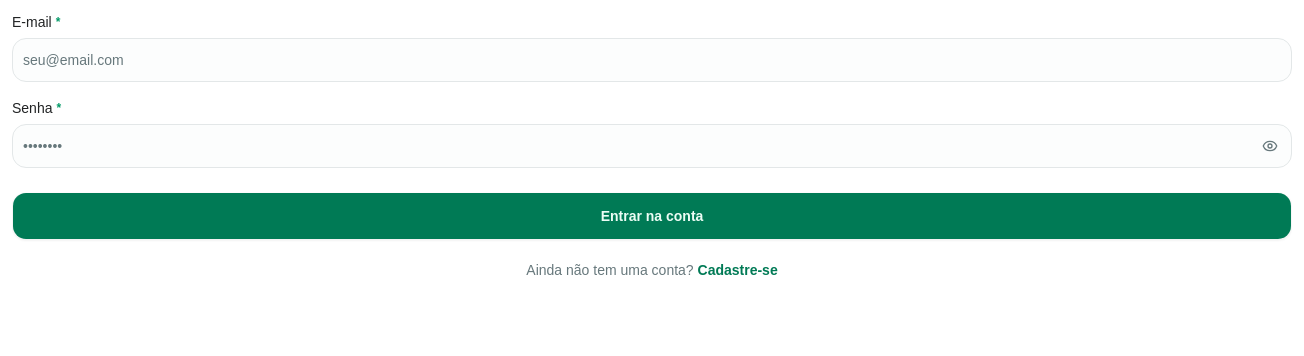
Test: LoginForm: envio › usa uma mensagem padrão quando a API não explica o erro
In the field labelled "E-mail *": (652, 60) [12,38,1292,82], type "maria@verdear.dev"
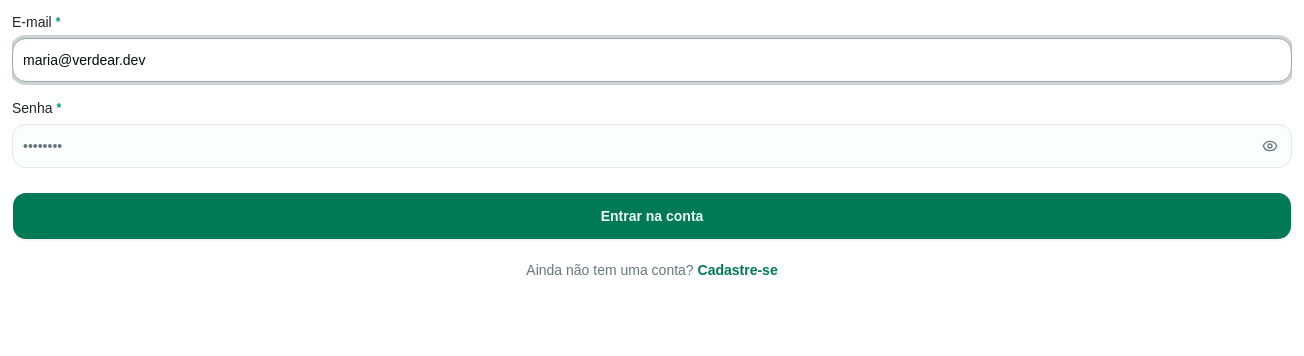
In the password field labelled "Senha *": (652, 146) [12,124,1292,168], type "segredo"
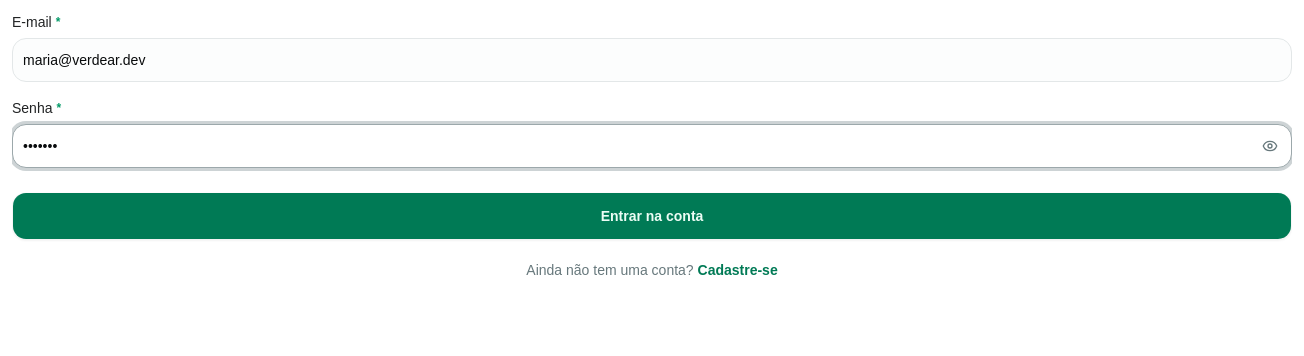
Click the button "Entrar na conta": click(652, 216) [12,192,1292,240]
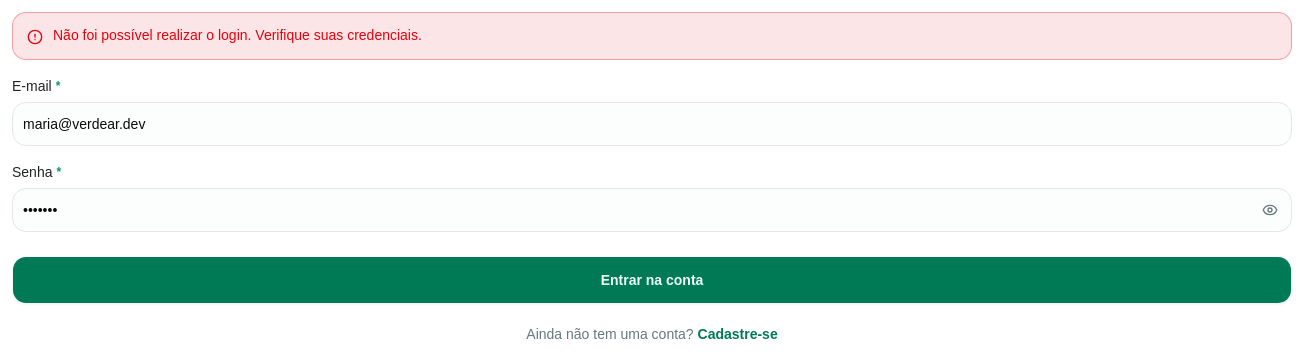
Expected: the message reads "Não foi possível realizar o login. Verifique suas credenciais.", [53,27,422,43]
